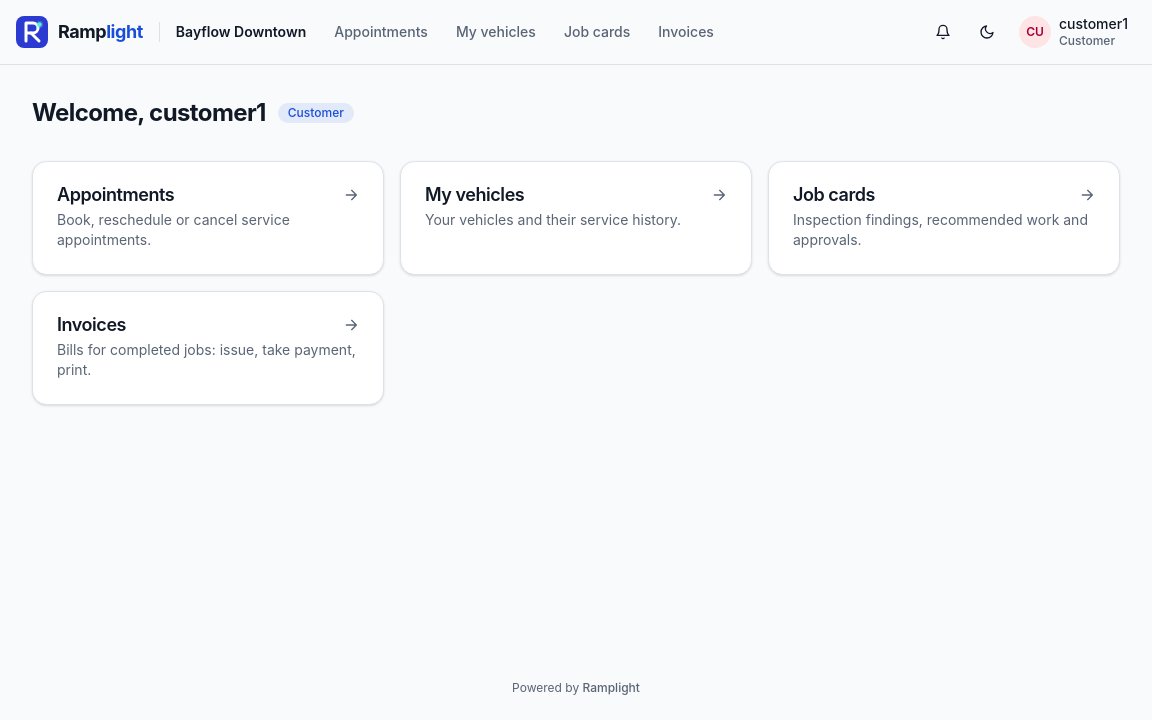
Scenario: the notification bell › says when there is nothing
Click the button named "Notifications": click(943, 32) [923,12,963,52]
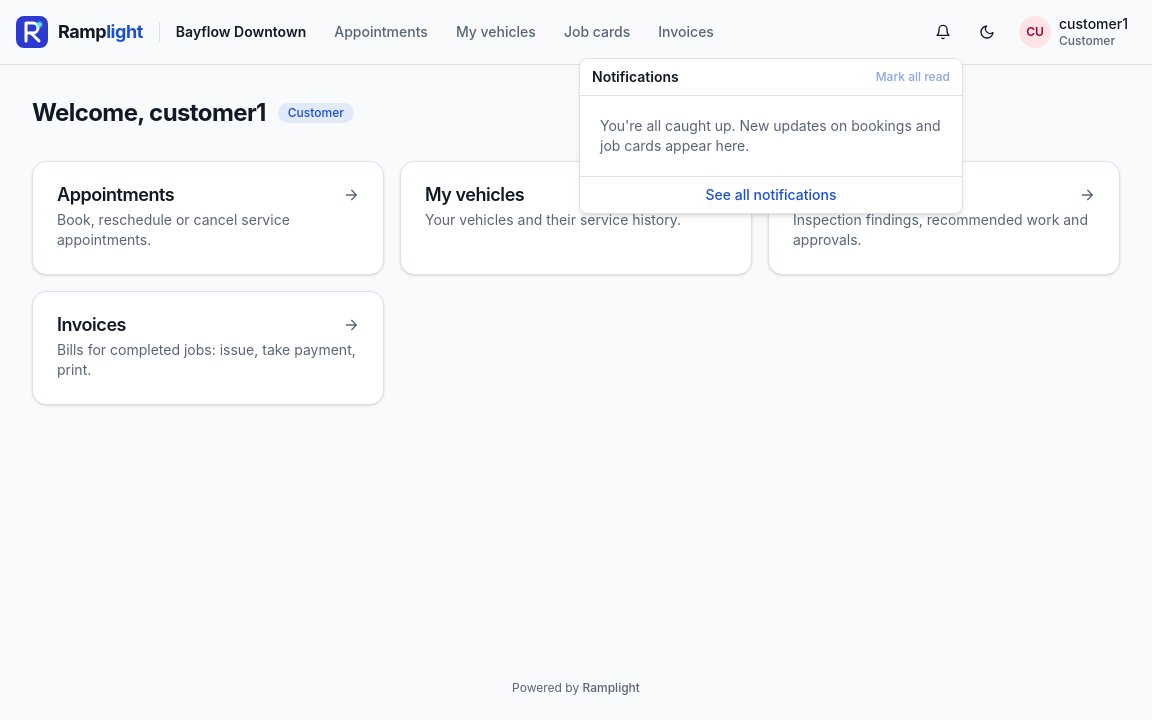
Now the text "You're all caught up" is shown, box [600,117,940,154]
